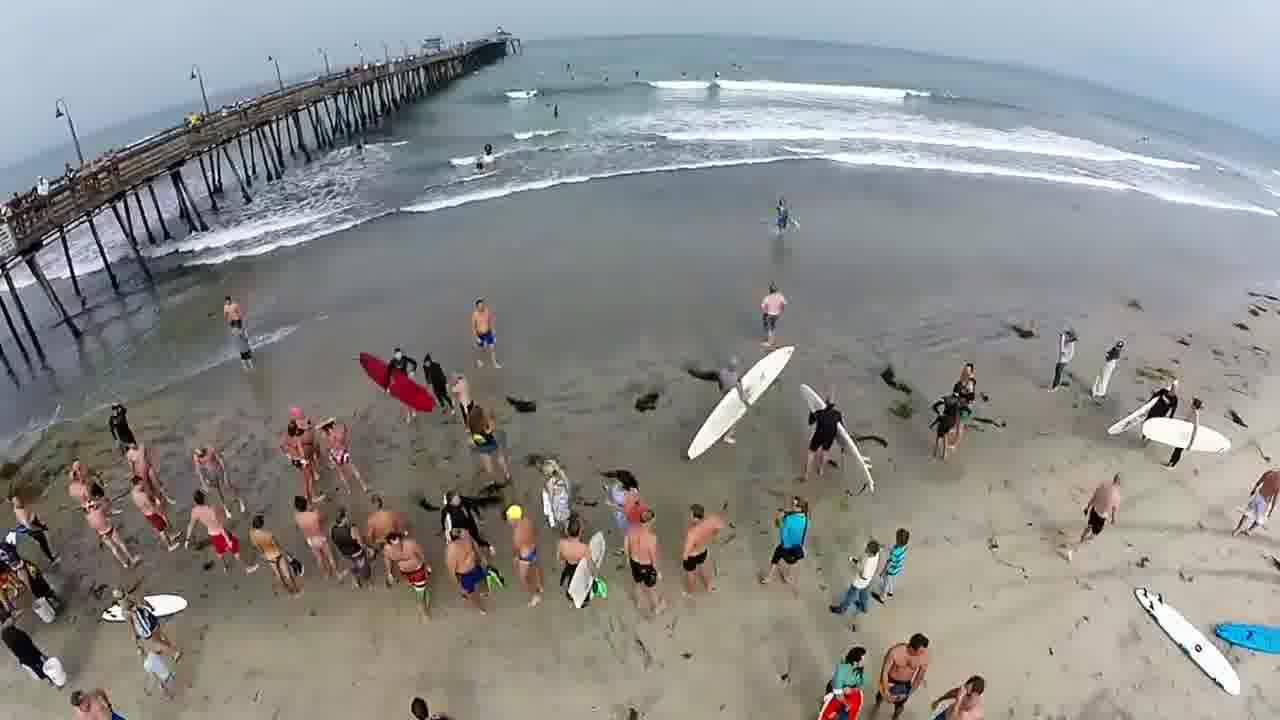human: (766, 182, 802, 237), (214, 283, 250, 319)
